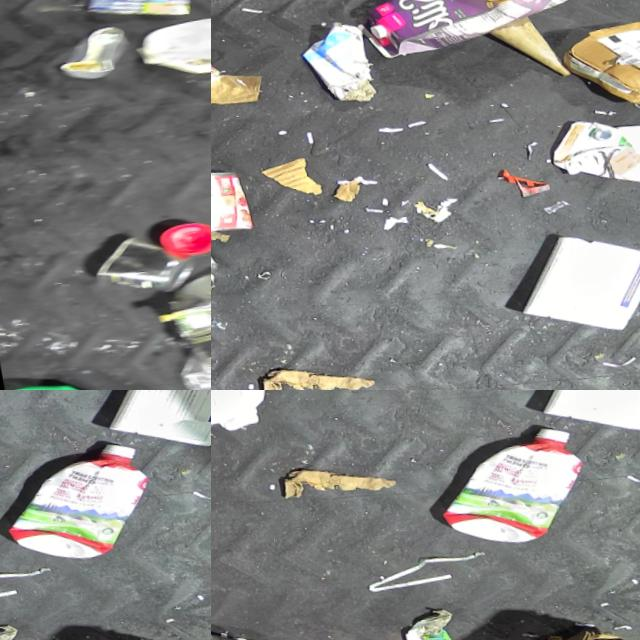can: (151, 223, 211, 371), (84, 223, 196, 302), (50, 18, 136, 85), (77, 0, 211, 28), (211, 160, 254, 240)
milk_jug: (132, 0, 211, 88)
non_white_jug: (424, 410, 592, 551), (0, 426, 157, 566), (342, 0, 578, 68), (545, 95, 640, 188), (0, 362, 191, 390)
